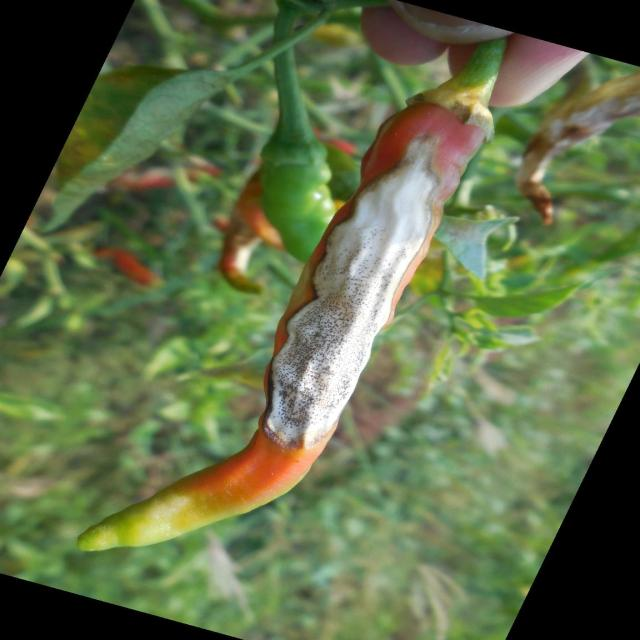Moko: (254, 82, 456, 513)
